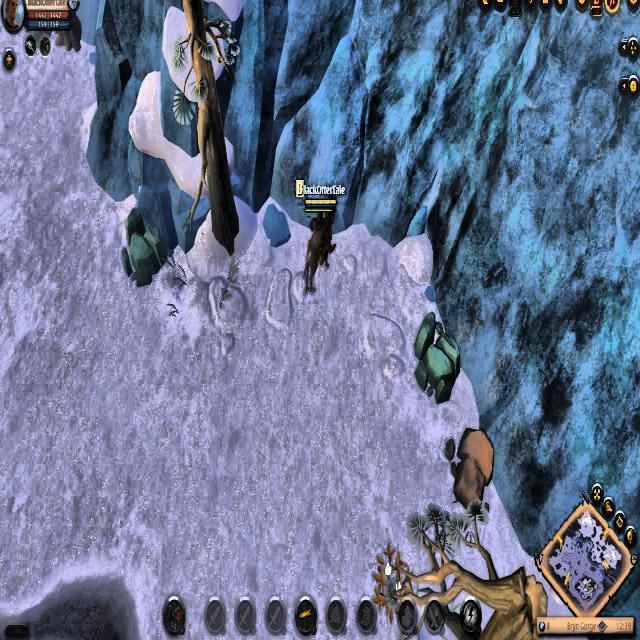limestone: (446, 424, 495, 511)
sandstone: (412, 306, 460, 405), (117, 206, 165, 292)
